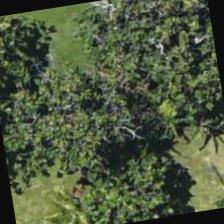Kelapa_Sawit: (27, 161, 127, 223)
